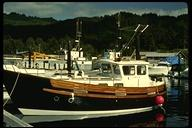ship: (5, 38, 171, 124)
water: (171, 83, 188, 125)
